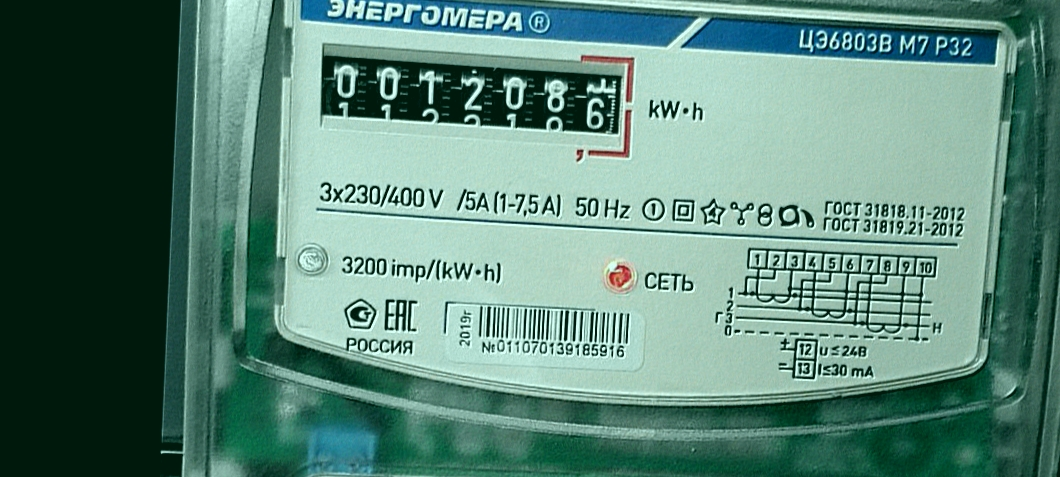0: (333, 60, 361, 100), (377, 64, 403, 102), (502, 73, 527, 110)
1: (419, 67, 442, 107)
2: (461, 73, 488, 113)
6: (583, 94, 608, 131)
8: (543, 76, 569, 114)
screen: (311, 35, 645, 163)
